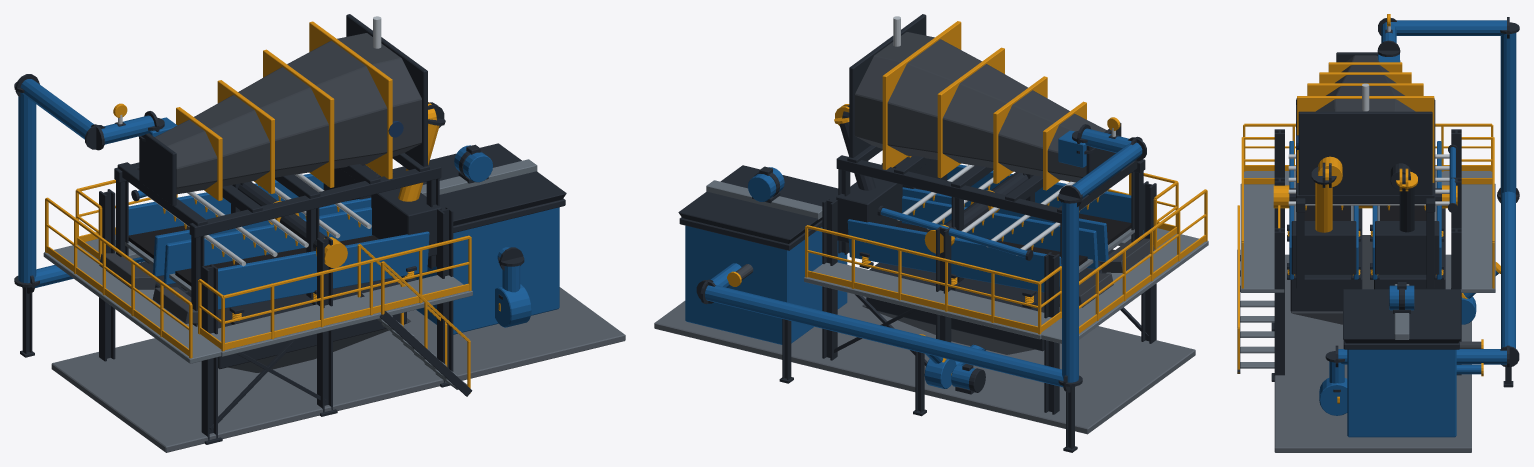
File: wash_plant_module_wp301.glb
3 renders of one model, left to right at view 1: azimuth 30°, elevation 25°; view 2: azimuth 150°, elevation 25°; view 3: azimuth 270°, elevation 25°, orthographic. The views are drawn at different scales.
Visible parts, largest first — view 1: WP301_AccessStairs_HandrailL; view 2: WP301_AccessStairs_HandrailL; view 3: WP301_AccessStairs_HandrailL.
Part boxes in pixels (bbox=[...]): WP301_AccessStairs_HandrailL: bbox=[14, 14, 625, 452]; WP301_AccessStairs_HandrailL: bbox=[654, 14, 1208, 452]; WP301_AccessStairs_HandrailL: bbox=[1237, 14, 1519, 452].
Size of the model in its own units: 9.06 by 6.07 by 5.44.
1 material, 1 textured.
